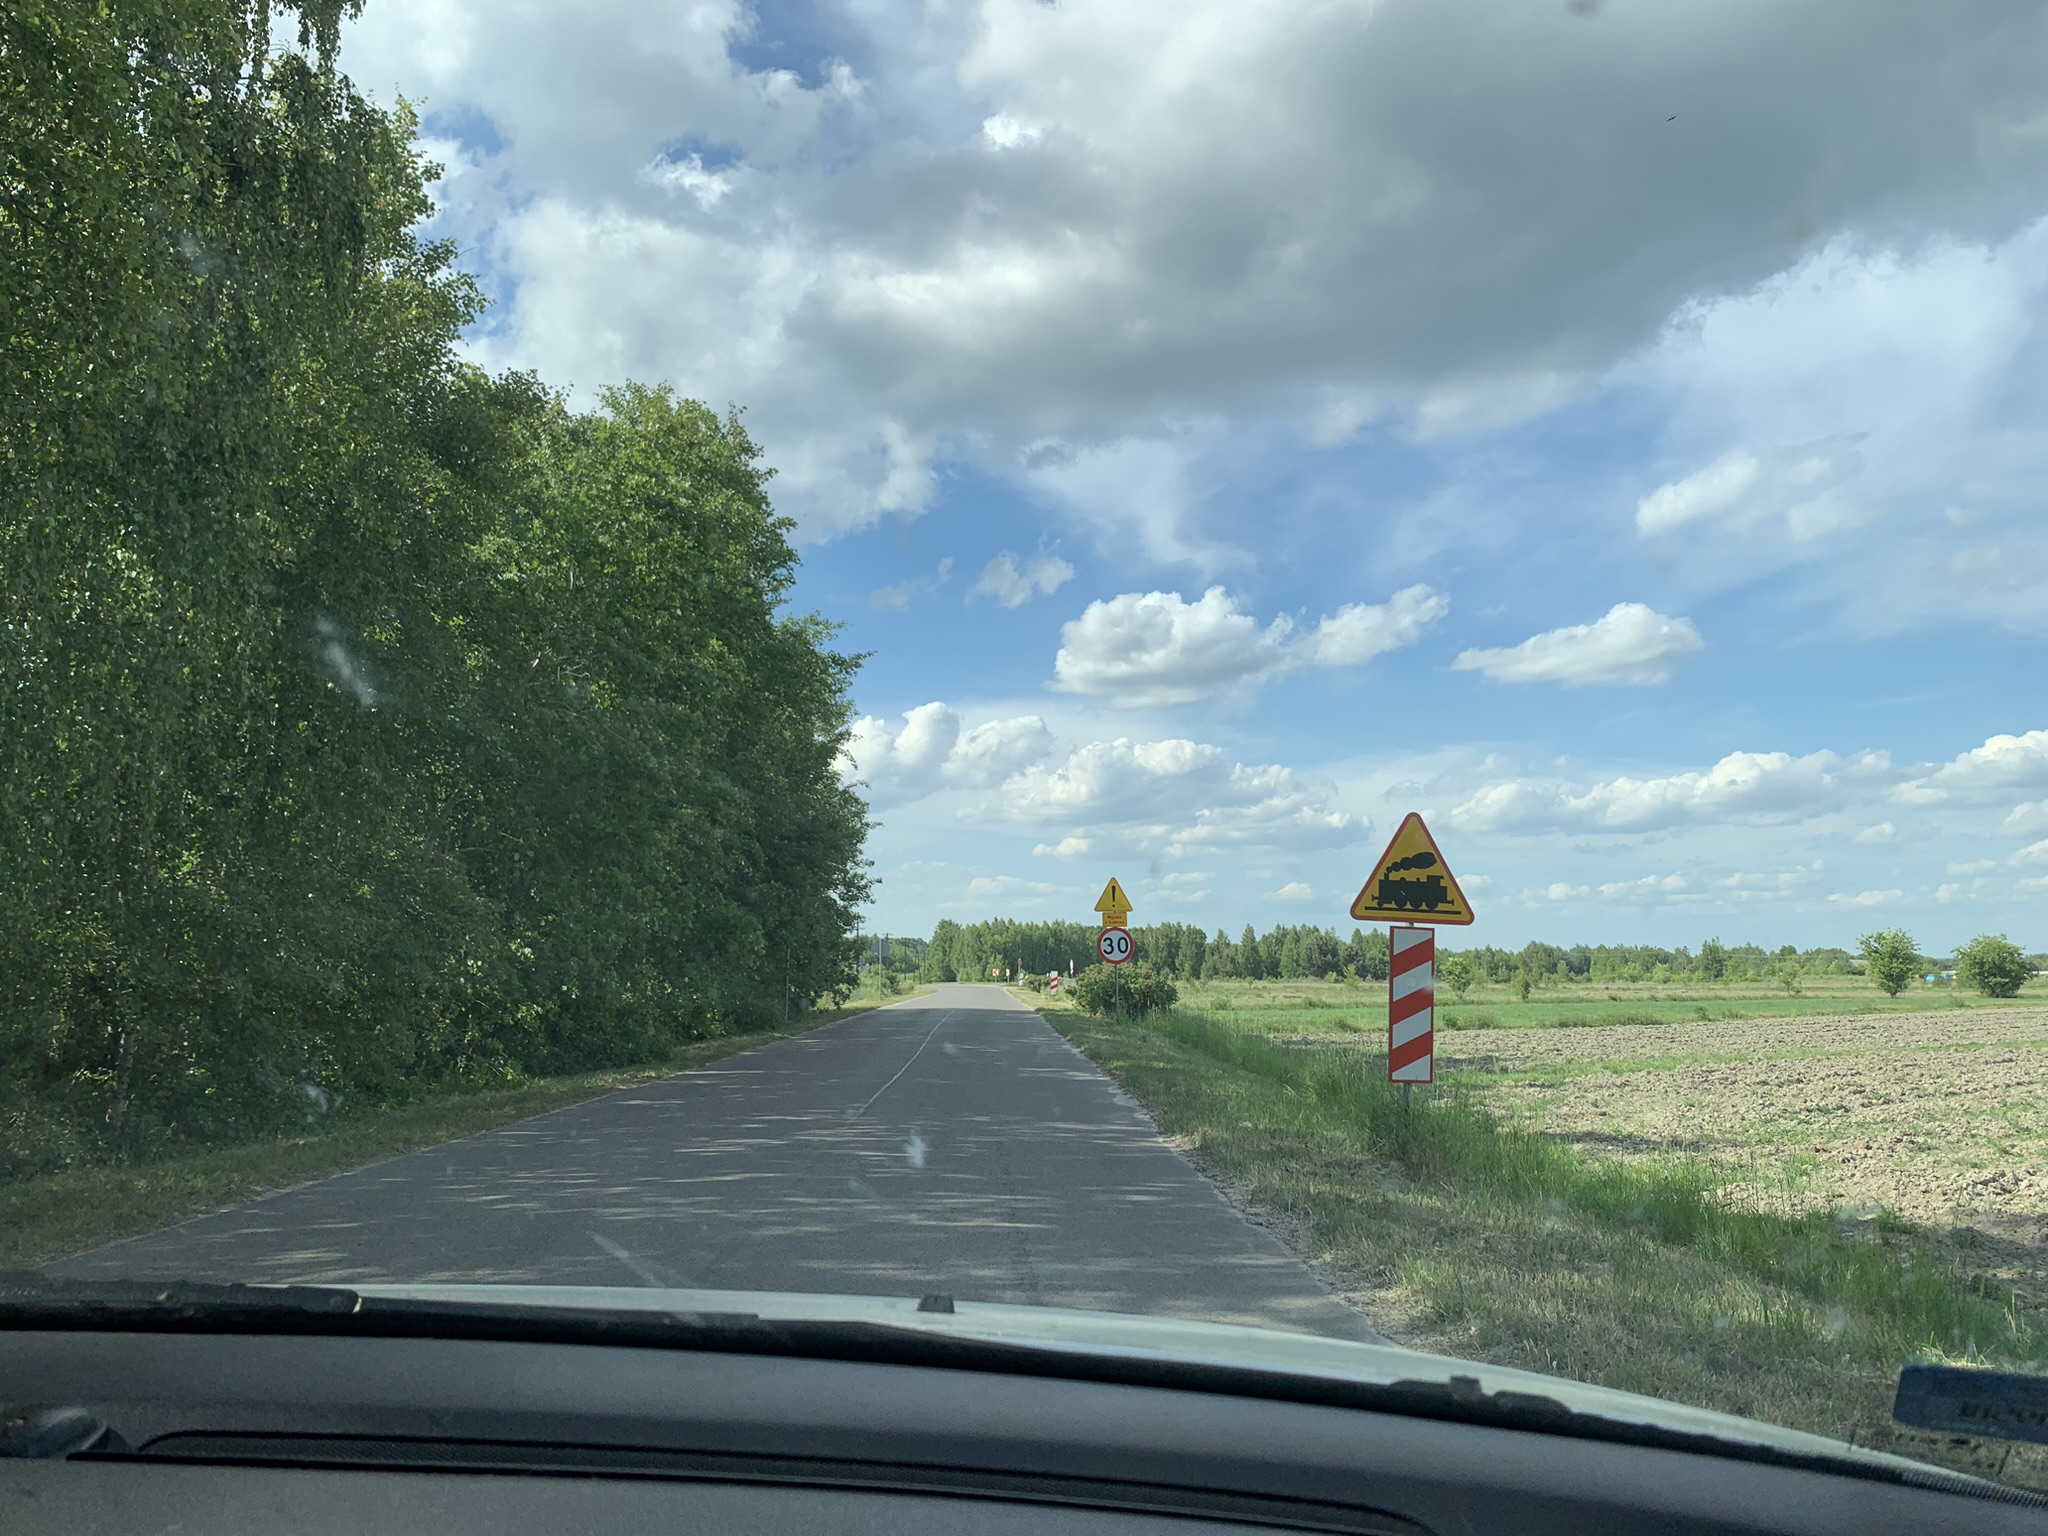a10: (1363, 850, 1464, 916)
